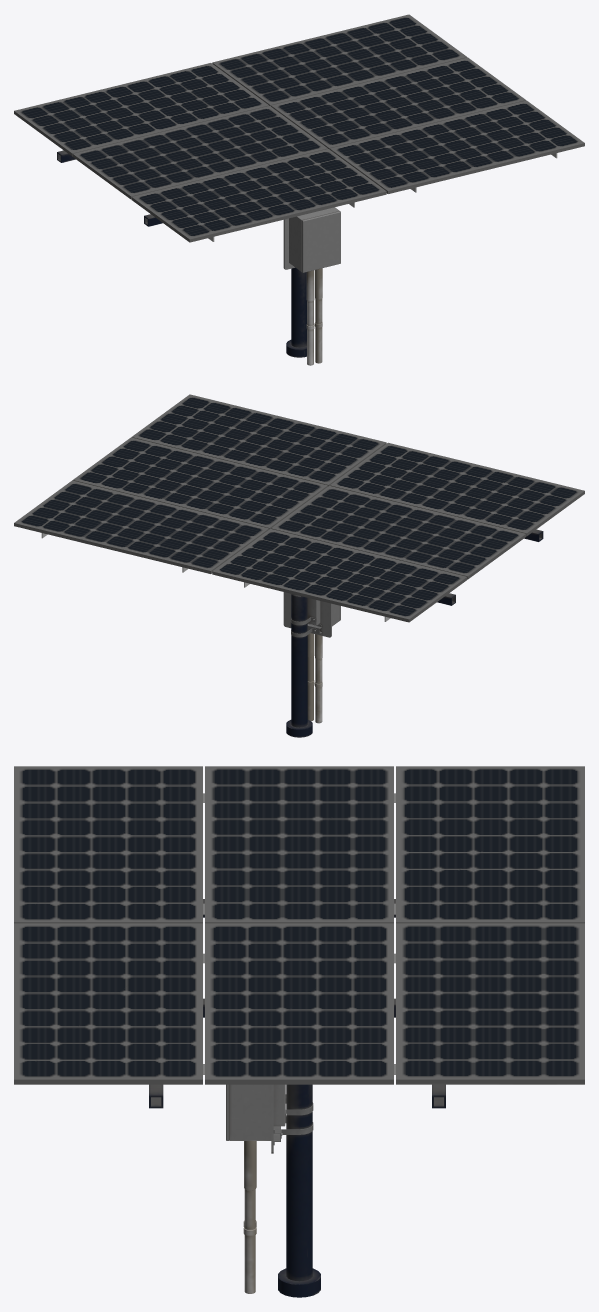
Rendered from Panel_final.glb.
The picture shows the model from 3 angles, top to bottom: view 1: azimuth 30°, elevation 25°; view 2: azimuth 150°, elevation 25°; view 3: azimuth 270°, elevation 25°; orthographic projection. The views are drawn at different scales.
Visible parts, largest first — view 1: placa.001, base.001; view 2: placa.001, base.001; view 3: placa.001, base.001.
Boxes of the visible parts, x1=… form: placa.001: x1=14, y1=14, x2=584, y2=242; base.001: x1=283, y1=207, x2=340, y2=365; placa.001: x1=14, y1=394, x2=584, y2=622; base.001: x1=283, y1=592, x2=340, y2=737; placa.001: x1=14, y1=766, x2=584, y2=1108; base.001: x1=226, y1=1084, x2=320, y2=1297.
Bounding box in the file's own units: 682 × 371 × 525.
Materials: 1 (1 with a texture image).
